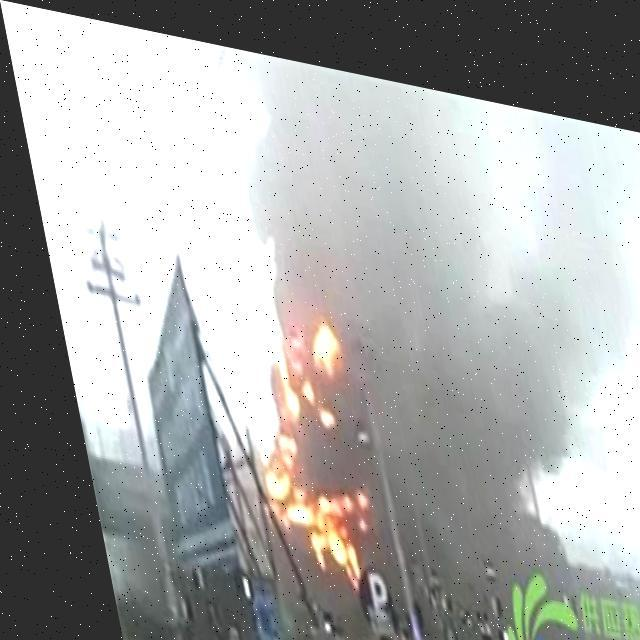Fire: (212, 288, 380, 582)
